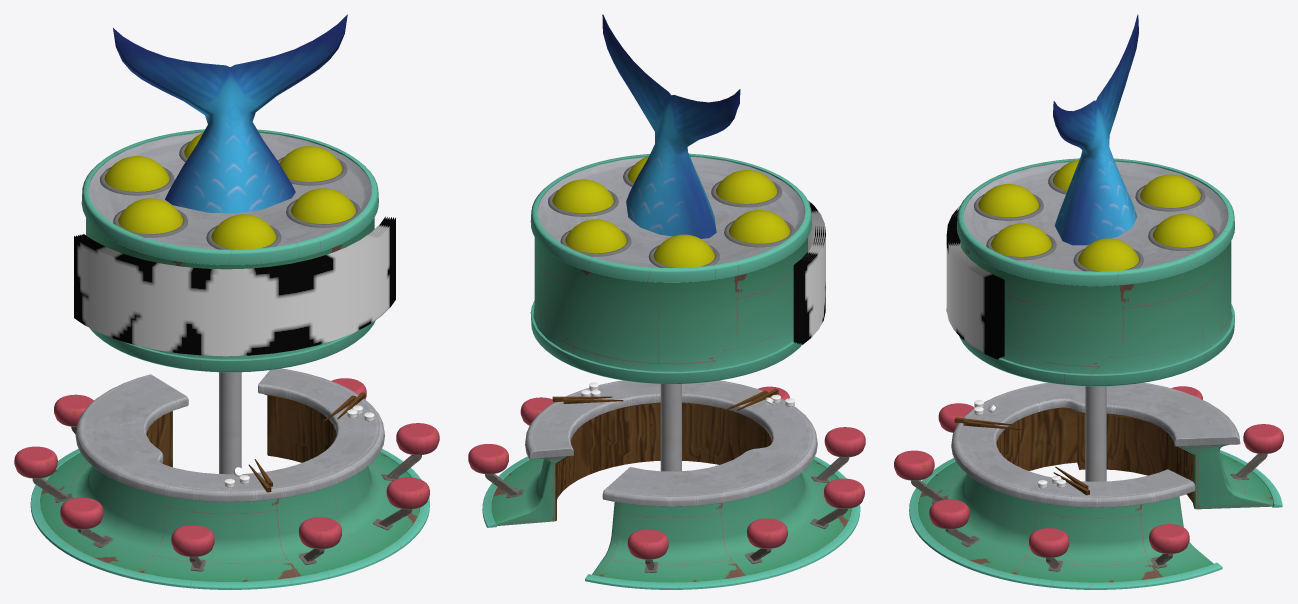
File: StreetDiner.gltf
3 renders of one model, left to right at view 1: azimuth 30°, elevation 25°; view 2: azimuth 150°, elevation 25°; view 3: azimuth 270°, elevation 25°, orthographic. The views are drawn at different scales.
Visible parts, largest first — view 1: SM_StreetDiner; view 2: SM_StreetDiner; view 3: SM_StreetDiner.
Boxes of the visible parts, <box> form: SM_StreetDiner: <box>14,14,439,589</box>; SM_StreetDiner: <box>468,14,865,589</box>; SM_StreetDiner: <box>894,14,1283,589</box>.
Bounding box in the file's own units: 4 × 5.07 × 3.95.
Materials: 7 (5 with a texture image).
